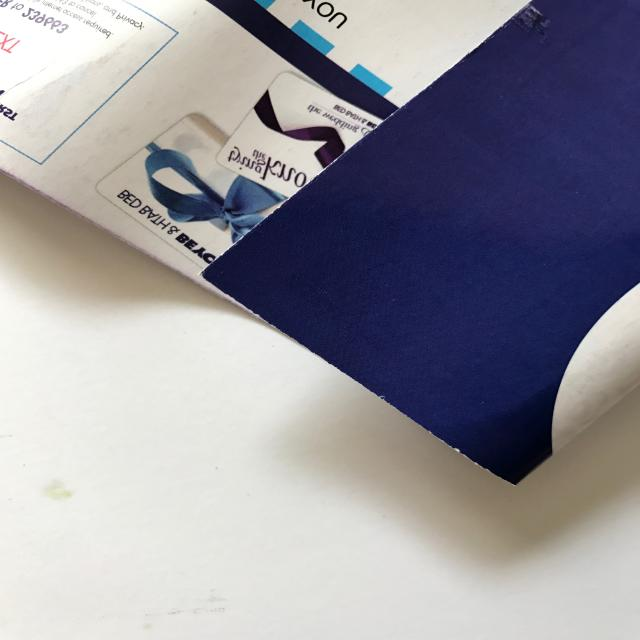paper: (0, 0, 640, 496)
